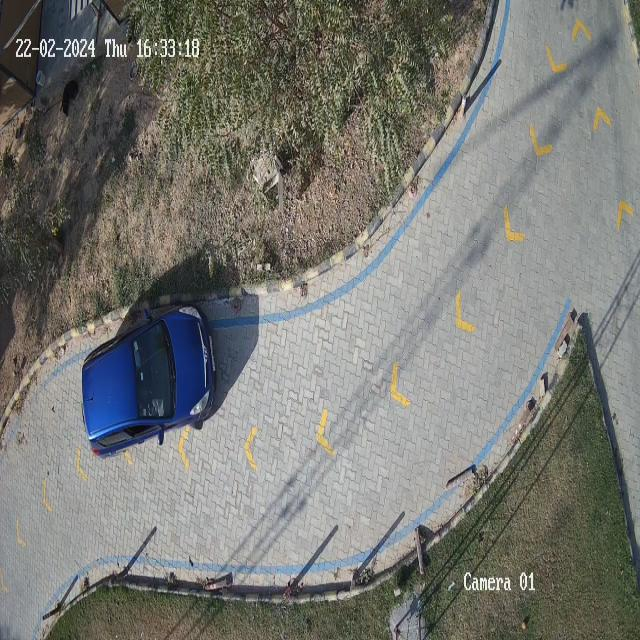car: (81, 302, 216, 461)
